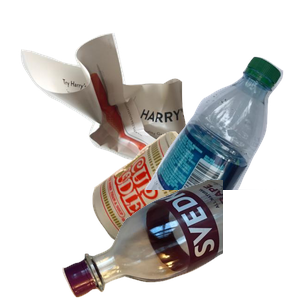glass: (60, 180, 300, 300)
paper: (18, 30, 213, 210)
plastic: (142, 54, 300, 234)
trash: (90, 129, 295, 300)
